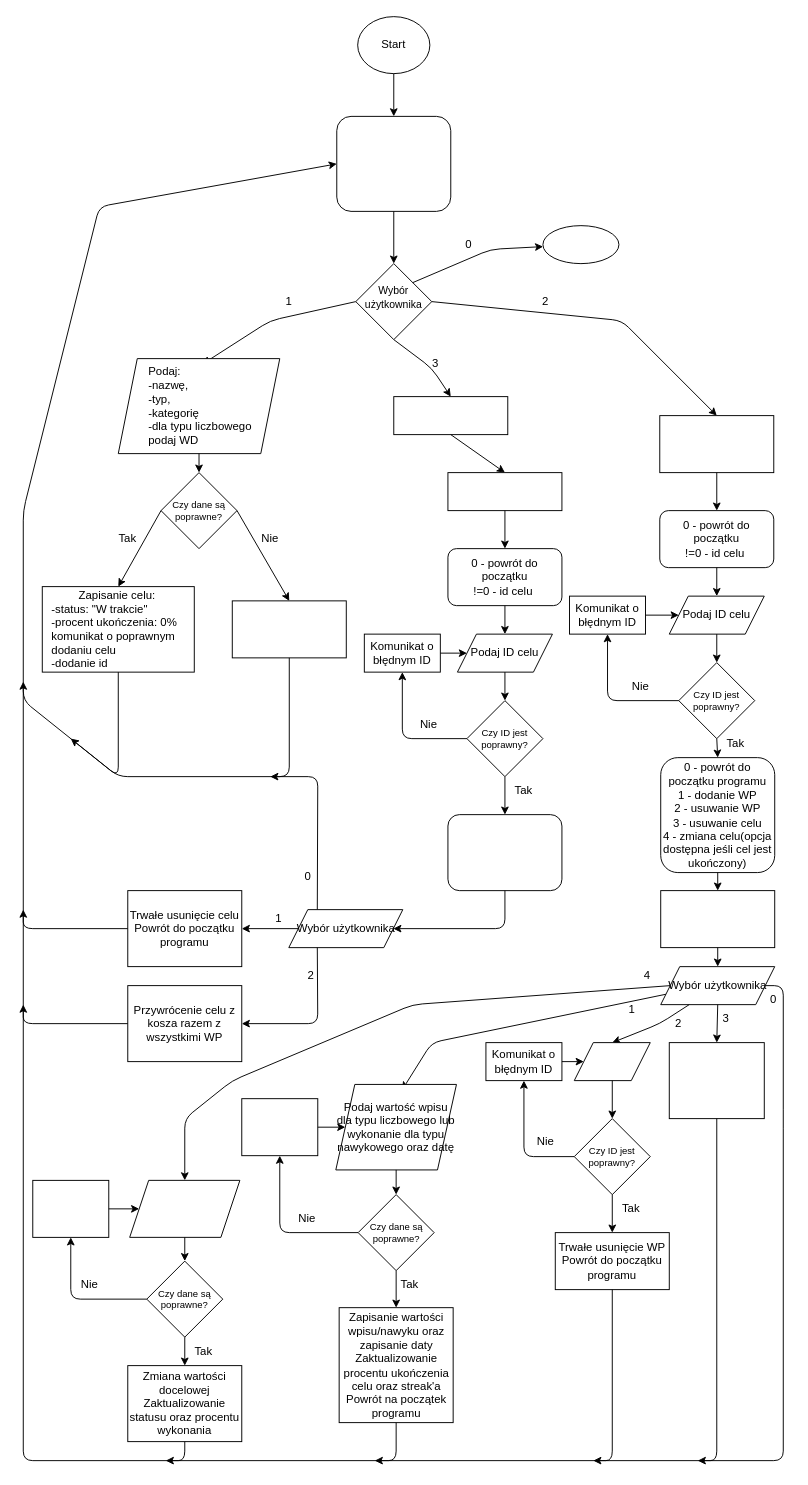
This 808x1485 diagram has some shape labels left out. The centre of each missing label's shape, as x and y in pixels:
"0 - koniec programu 1 - dodanie celu 2 - wybór celu 3 - pokaż kosz" belongs at point (393, 163).
"0 - powrót do początku programu 1 - trwałe usuwanie celu 2- przywracanie celu" belongs at point (504, 852).
"Komunikat o błędnej wartości" belongs at point (70, 1208).
"Komunikat o błędnych danych" belongs at point (279, 1127).
"Komunikat o błędzie Powrót do początku programu" belongs at point (288, 629).
"Koniec" belongs at point (580, 244).
"Podaj ID WP" belongs at point (611, 1061).
"Podaj nową wartość docelową" belongs at point (184, 1208).
"Przeniesienie celu do kosza Powrót do początku programu" belongs at point (716, 1080).
"Wypisanie szczegółów celu razem z listą WP" belongs at point (717, 919).
"Wyświetlenie kosza" belongs at point (450, 415).
"Wyświetlenie listy" belongs at point (504, 491).
"Wyświetlenie listy celów razem z ich statusem oraz streakiem" belongs at point (716, 444).
